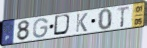0: (96, 9, 114, 32)
8: (17, 20, 31, 41)
D: (53, 14, 74, 37)
G: (32, 17, 50, 39)
K: (75, 12, 89, 34)
T: (117, 5, 131, 28)
